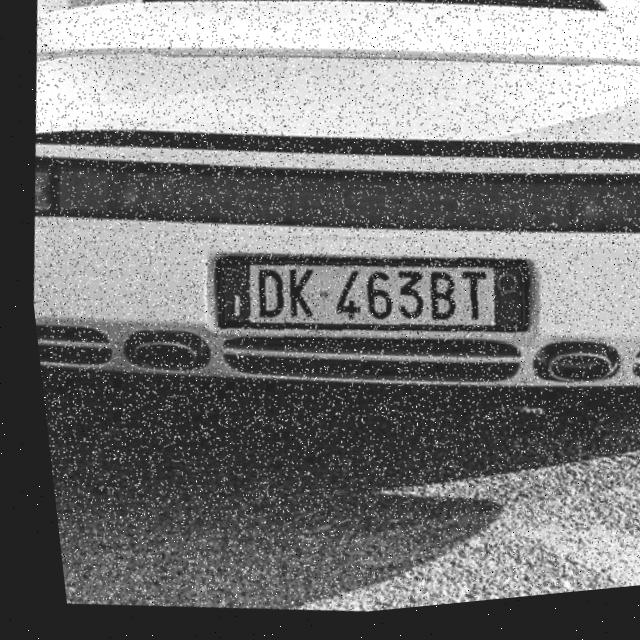LicensePlate: (190, 230, 535, 381)
